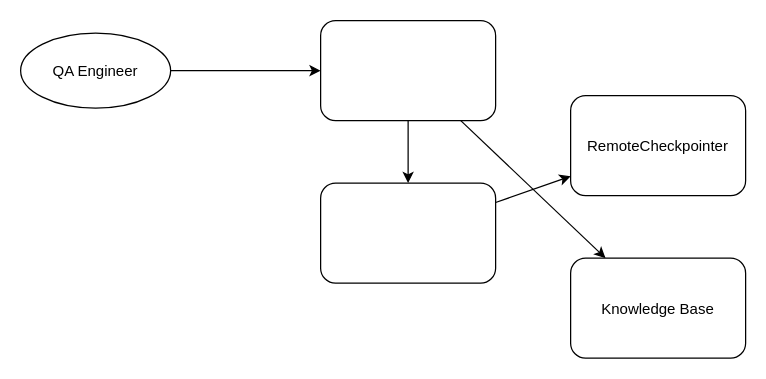
This 766x379 diagram has some shape labels left out. Each missing label, with the box of its shape:
PiWorkflow Engine: (319, 182, 496, 283)
Test Runner: (319, 19, 496, 121)
